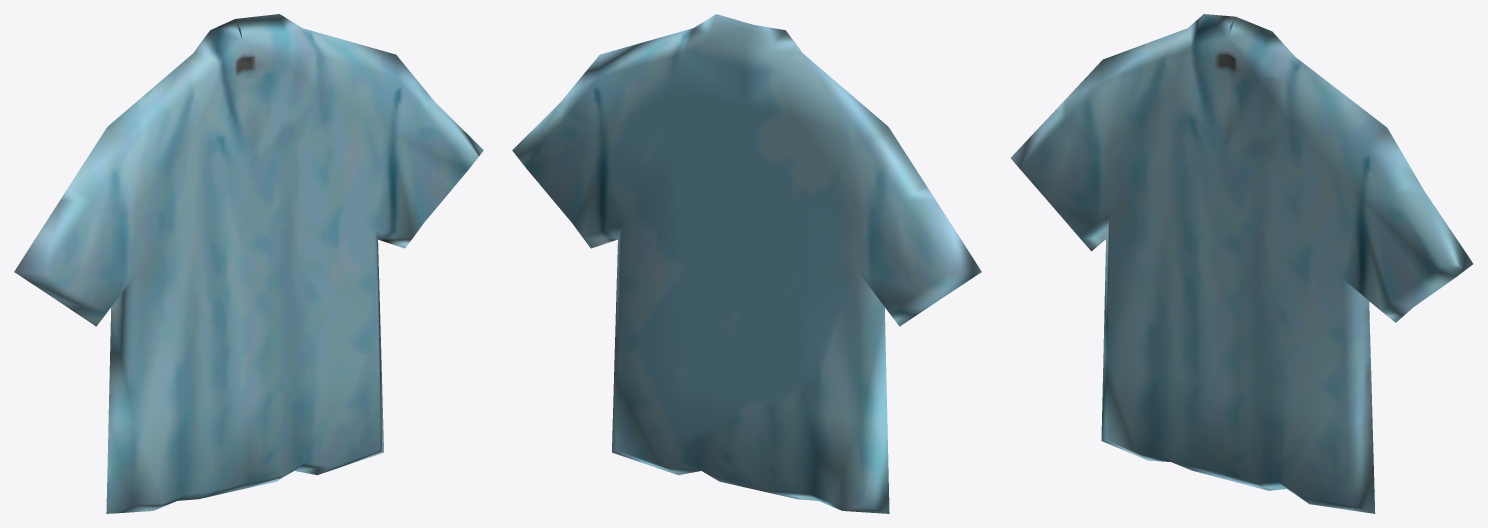
File: prop_fuku02.fbx
The picture shows the model from 3 angles, left to right: view 1: azimuth 30°, elevation 25°; view 2: azimuth 150°, elevation 25°; view 3: azimuth 330°, elevation 25°; orthographic projection.
Parts seen in each view (by area): view 1: prop_fuku02; view 2: prop_fuku02; view 3: prop_fuku02.
Boxes of the visible parts, x1,y1,x2,y2 form: prop_fuku02: (14, 14, 483, 513); prop_fuku02: (512, 14, 981, 513); prop_fuku02: (1011, 14, 1472, 513).
Bounding box in the file's own units: 0.7064 × 0.6791 × 0.0583.
